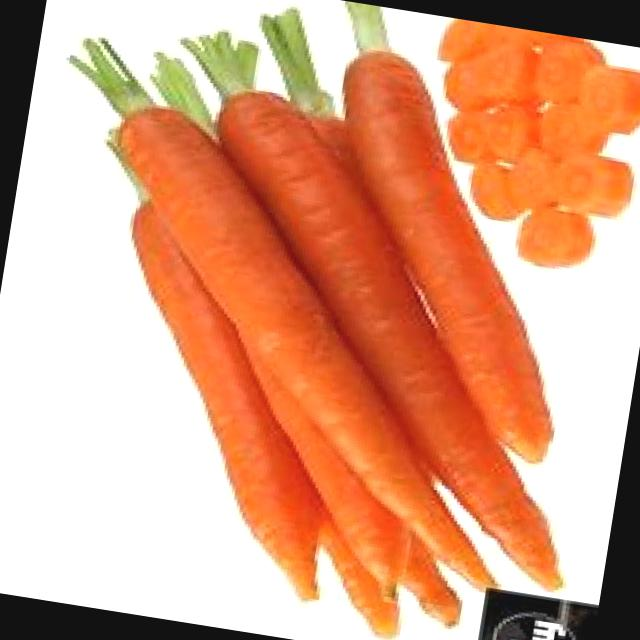carrot: (107, 102, 491, 592), (208, 91, 541, 577), (348, 52, 558, 460)
